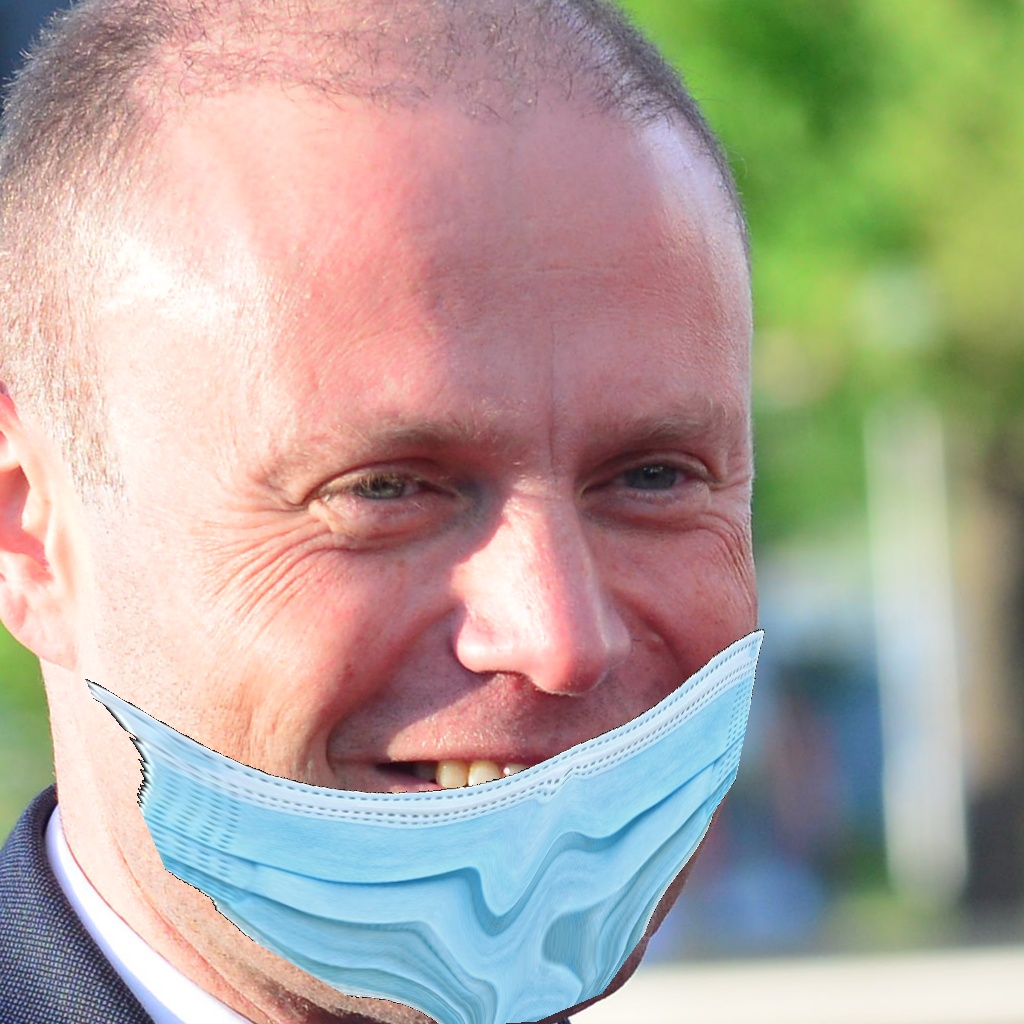mascarilla_mal_puesta: (54, 313, 847, 1024)
